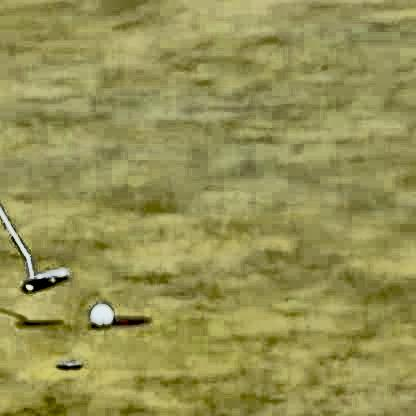golfball: (86, 305, 111, 327)
